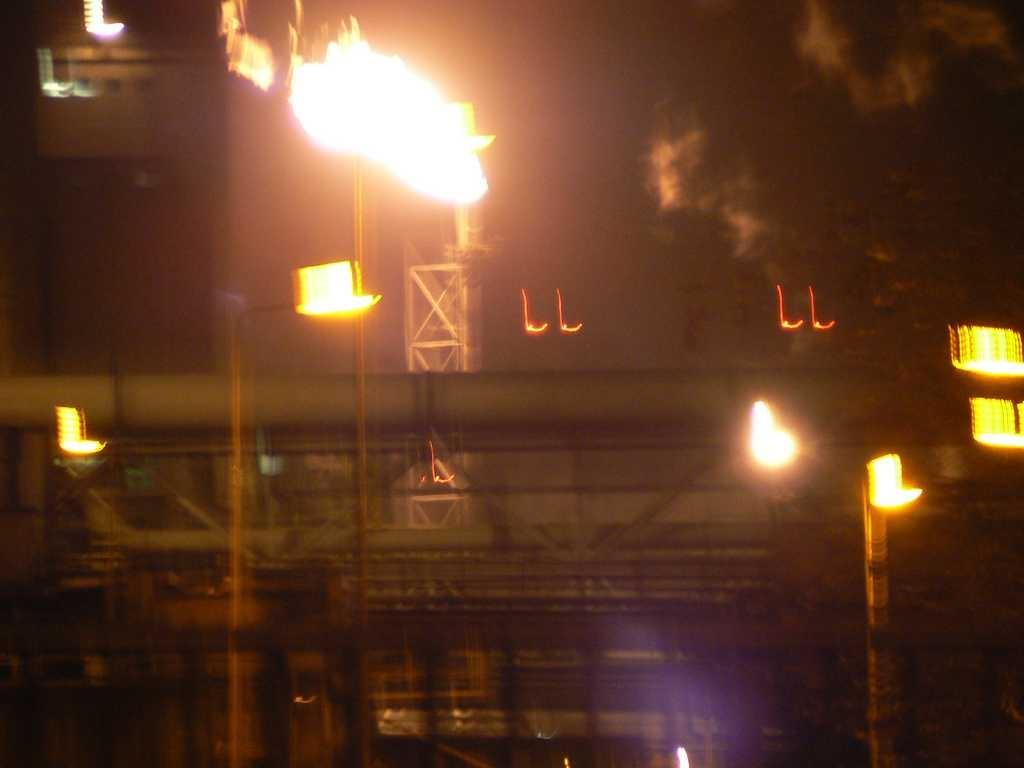fire: (296, 48, 496, 198), (310, 268, 360, 316)
